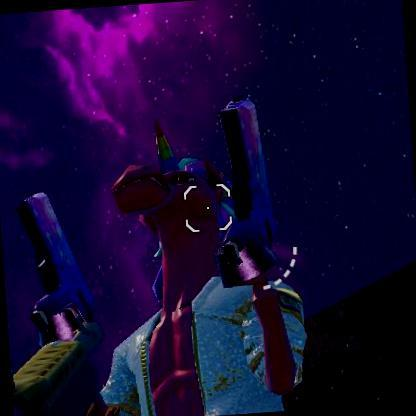person: (125, 159, 272, 416)
